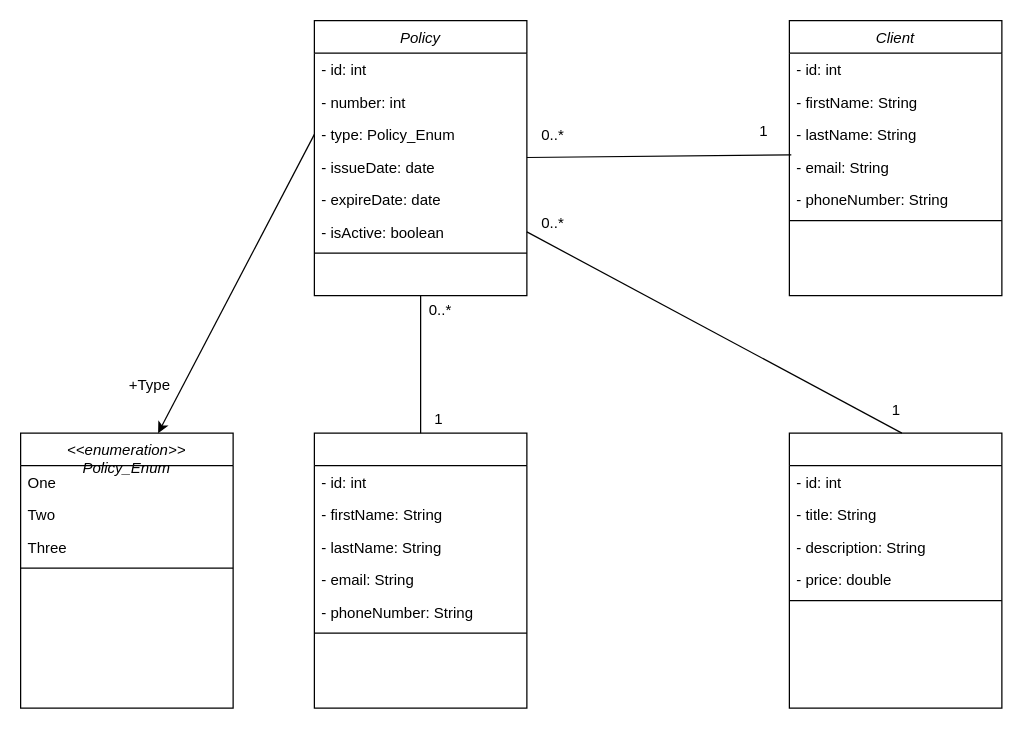
Some shapes in this 1023 by 729 pixel diagram are drawn without their labels. Each missing label, with the box of its shape:
Agent: (313, 432, 527, 708)
InsuranceProduct: (788, 432, 1002, 708)
